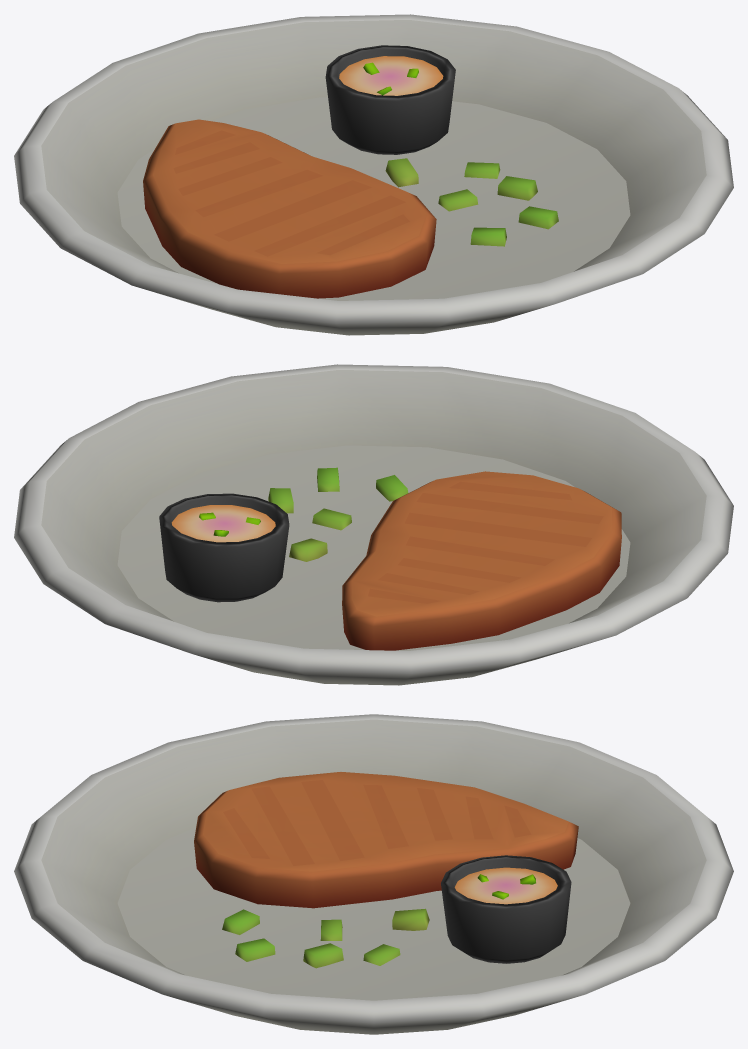
File: steak.glb
The picture shows the model from 3 angles, top to bottom: view 1: azimuth 30°, elevation 25°; view 2: azimuth 150°, elevation 25°; view 3: azimuth 270°, elevation 25°; orthographic projection.
Visible parts, largest first — view 1: SM_Dish_A.005, SM_Food_Meat_02; view 2: SM_Dish_A.005, SM_Food_Meat_02; view 3: SM_Dish_A.005, SM_Food_Meat_02.
Part boxes in pixels (x1,y1,x2,y2): SM_Dish_A.005: (14, 14, 733, 335); SM_Food_Meat_02: (143, 45, 558, 298); SM_Dish_A.005: (14, 364, 733, 685); SM_Food_Meat_02: (159, 467, 621, 650); SM_Dish_A.005: (14, 714, 733, 1034); SM_Food_Meat_02: (194, 772, 578, 968).
Size of the model in its own units: 0.7473 by 0.1075 by 0.7473.
Materials: 1 (1 with a texture image).
